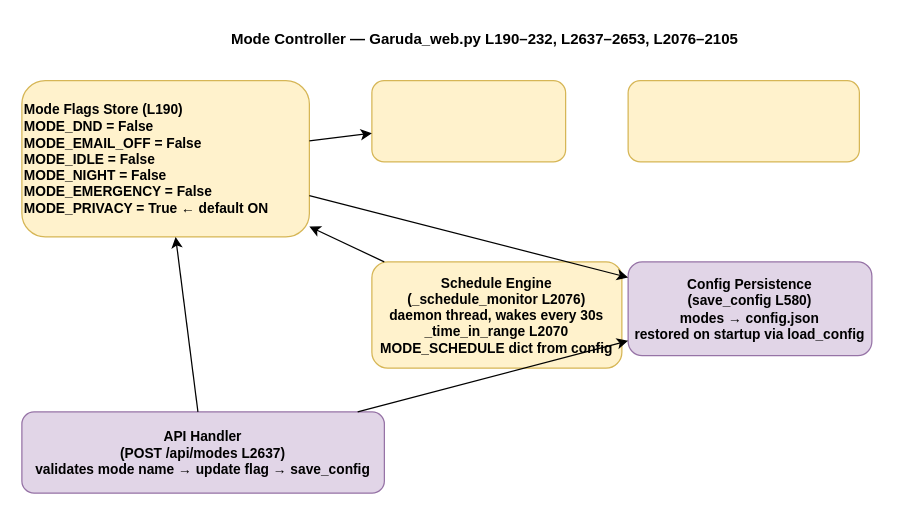
The diagram is 906 pixels wide and 515 high, and some of its shapes have lost their labels. Each missing label, with the centre of its shape:
"Custom Mode Registry (CUSTOM_MODES user-defined via config API)" goes at [743,120].
"Mode Lock (threading.Lock _mode_lock L209)" goes at [468,120].
